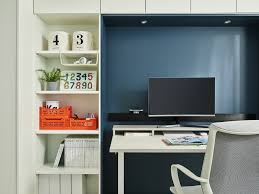Chair: (169, 117, 259, 194)
Table: (110, 119, 206, 194)
